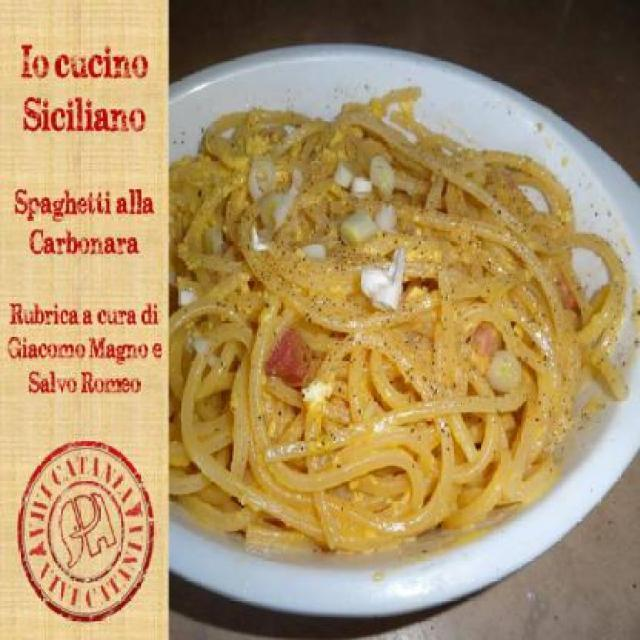Pasta with carbonara sauce: (173, 79, 621, 548)
